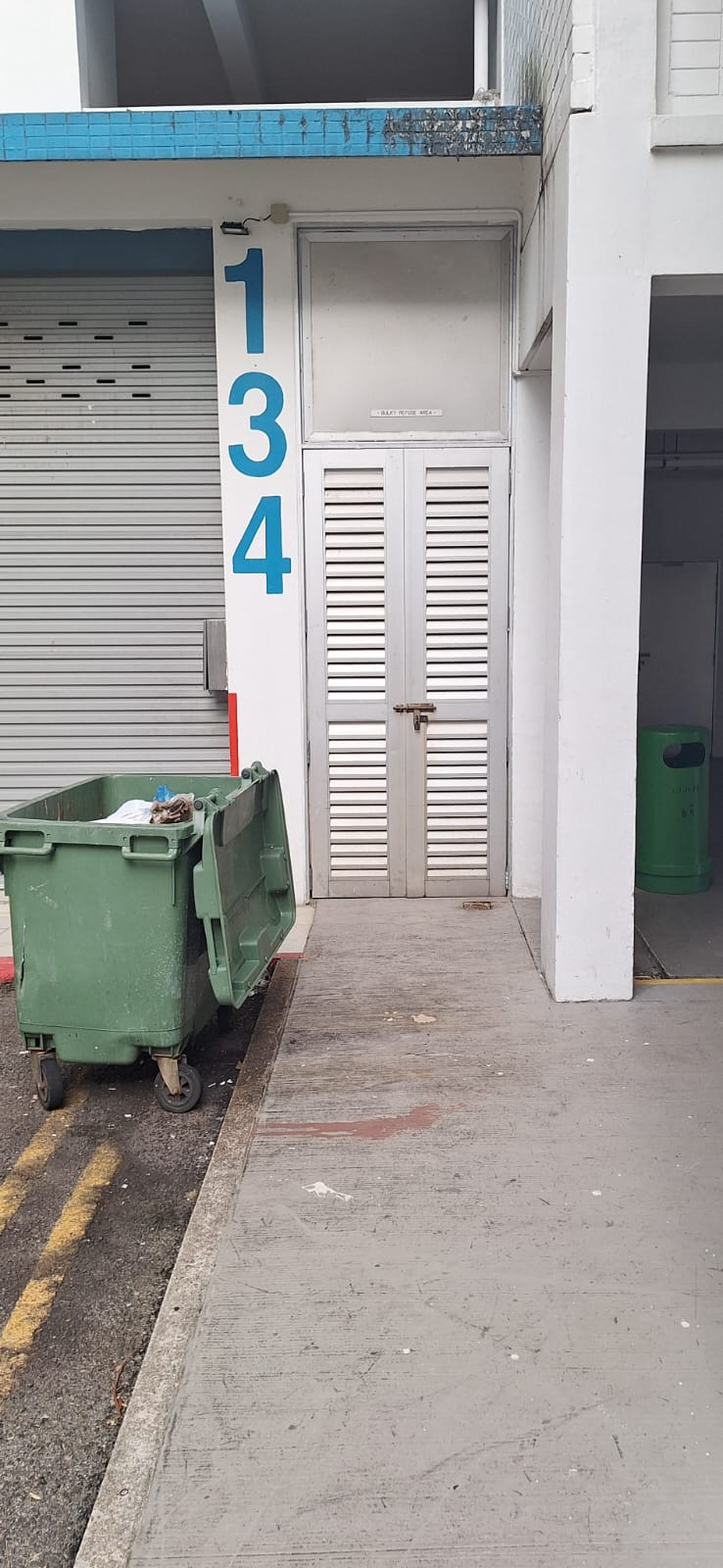bin_empty: (0, 761, 295, 1114), (635, 725, 710, 894)
